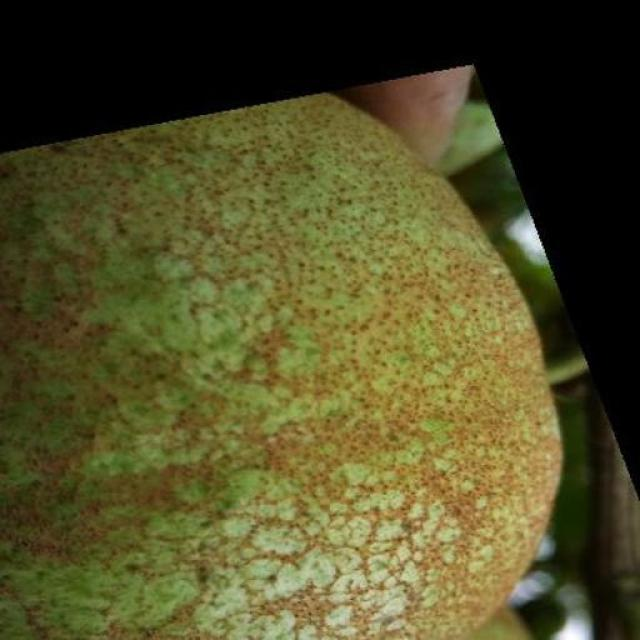Scab: (1, 95, 561, 639)
